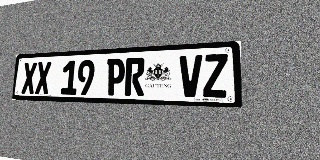1: (61, 60, 78, 95)
9: (77, 60, 95, 95)
P: (106, 58, 125, 96)
R: (124, 57, 145, 96)
V: (179, 55, 202, 97)
X: (35, 61, 51, 94), (21, 62, 37, 94)
Z: (203, 54, 228, 98)
